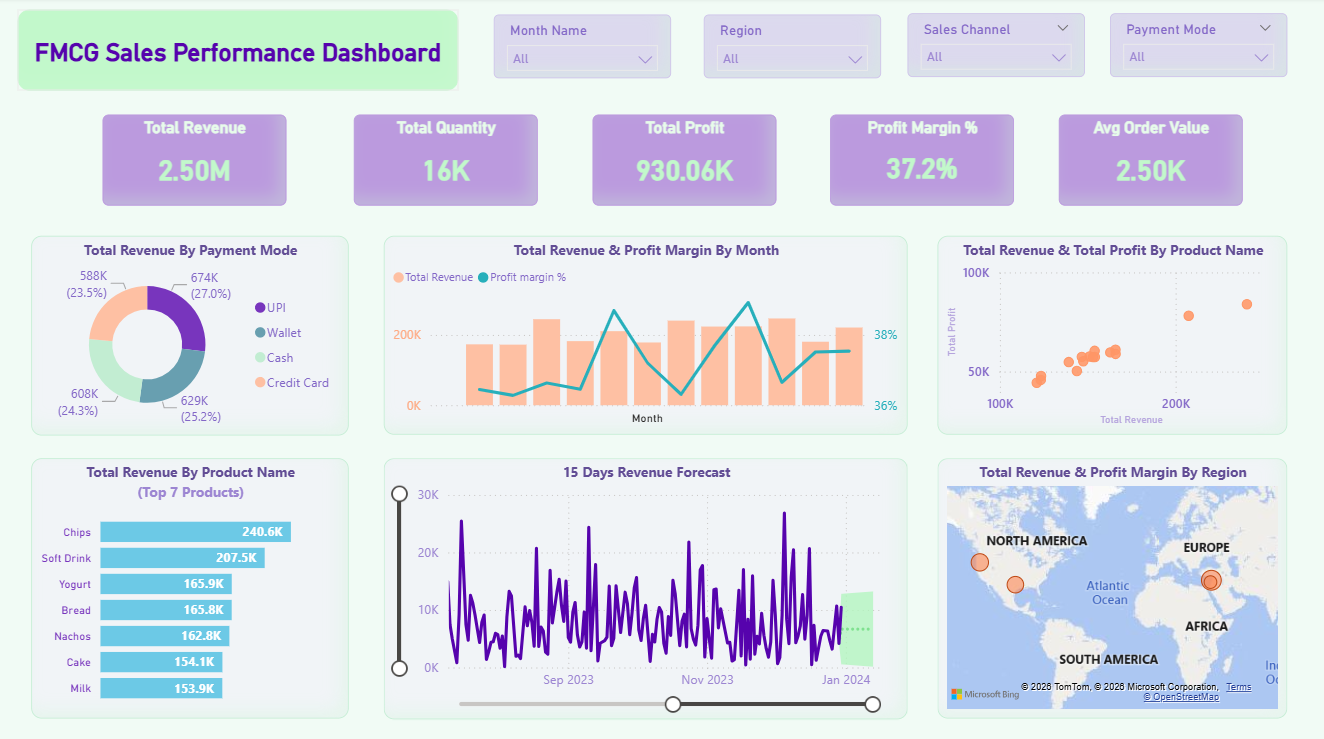

The dashboard page shown, as its layout file describes it:
{"tool":"powerbi","page":{"name":"Page 1","canvas":[1280,720],"ordinal":0},"visuals":[{"type":"textbox","title":"FMCG Sales Performance Dashboard","box":[16.9,12.1,425.9,78.4],"z":0},{"type":"slicer","fields":{"Values":["Dim_Date.MonthName"]},"box":[476.5,16.9,171.3,61.5],"z":1000},{"type":"slicer","fields":{"Values":["Dim_Payment.PaymentMode"]},"box":[1071.3,15.7,171.3,61.5],"z":2000},{"type":"slicer","fields":{"Values":["Dim_Channel.SalesChannel"]},"box":[875.9,15.7,171.3,61.5],"z":3000},{"type":"slicer","fields":{"Values":["Dim_Customer.Region"]},"box":[679.2,16.9,171.3,61.5],"z":4000},{"type":"card","title":"Total Revenue","fields":{"Values":["Dax-Calculation.Total Revenue"]},"box":[98.9,113.4,177.3,88.1],"z":5000},{"type":"card","title":"Total Quantity","fields":{"Values":["Dax-Calculation.Total Quantity"]},"box":[341.4,113.4,177.3,88.1],"z":6000},{"type":"card","title":"Total Profit","fields":{"Values":["Dax-Calculation.Total Profit"]},"box":[571.9,113.4,177.3,88.1],"z":7000},{"type":"card","title":"Profit Margin %","fields":{"Values":["Dax-Calculation.Profit margin %"]},"box":[801.1,113.4,177.3,88.1],"z":8000},{"type":"card","title":"Avg Order Value","fields":{"Values":["Dax-Calculation.Avg Order Value"]},"box":[1021.9,113.4,177.3,88.1],"z":9000},{"type":"lineStackedColumnComboChart","title":"Total Revenue & Profit Margin By Month","fields":{"Category":["Dim_Date.Month"],"Y":["Dax-Calculation.Total Revenue"],"Y2":["Dax-Calculation.Profit margin %"]},"box":[370.4,230.4,505.5,191.8],"z":10000},{"type":"donutChart","title":"Total Revenue By Payment Mode","fields":{"Category":["Dim_Payment.PaymentMode"],"Y":["Dax-Calculation.Total Revenue"]},"box":[30,230,306.2,192.5],"z":11000},{"type":"clusteredBarChart","title":"Total Revenue By Product Name","fields":{"Category":["Dim_Product.ProductName"],"Y":["Dax-Calculation.Total Revenue"]},"box":[30,445,306.2,251.2],"z":12000},{"type":"scatterChart","title":"Total Revenue & Total Profit By Product Name","fields":{"Category":["Dim_Product.ProductName"],"X":["Dax-Calculation.Total Revenue"],"Y":["Dax-Calculation.Total Profit"]},"box":[904.8,230.4,337.8,191.8],"z":13000},{"type":"map","title":"Total Revenue & Profit Margin By Region","fields":{"Size":["Dax-Calculation.Total Revenue"],"Category":["Dim_Customer.Region"]},"box":[905,445,337.5,251.2],"z":14000},{"type":"lineChart","title":"15 Days Revenue Forecast","fields":{"Y":["Dax-Calculation.Total Revenue"],"Category":["Dim_Date.Date"]},"box":[370.4,445.2,505.5,252.1],"z":15000}]}

Visuals, with their boxes in screenshot pixels (x1, y1, x2, y2), scaled from the page's 1280x720 canvas onto the 1324x739 screenshot:
"FMCG Sales Performance Dashboard" textbox: crop(17, 12, 458, 93)
slicer - Dim_Date.MonthName: crop(493, 17, 670, 80)
slicer - Dim_Payment.PaymentMode: crop(1108, 16, 1285, 79)
slicer - Dim_Channel.SalesChannel: crop(906, 16, 1083, 79)
slicer - Dim_Customer.Region: crop(703, 17, 880, 80)
"Total Revenue" card: crop(102, 116, 286, 207)
"Total Quantity" card: crop(353, 116, 537, 207)
"Total Profit" card: crop(592, 116, 775, 207)
"Profit Margin %" card: crop(829, 116, 1012, 207)
"Avg Order Value" card: crop(1057, 116, 1240, 207)
"Total Revenue & Profit Margin By Month" lineStackedColumnComboChart: crop(383, 236, 906, 433)
"Total Revenue By Payment Mode" donutChart: crop(31, 236, 348, 434)
"Total Revenue By Product Name" clusteredBarChart: crop(31, 457, 348, 715)
"Total Revenue & Total Profit By Product Name" scatterChart: crop(936, 236, 1285, 433)
"Total Revenue & Profit Margin By Region" map: crop(936, 457, 1285, 715)
"15 Days Revenue Forecast" lineChart: crop(383, 457, 906, 716)
